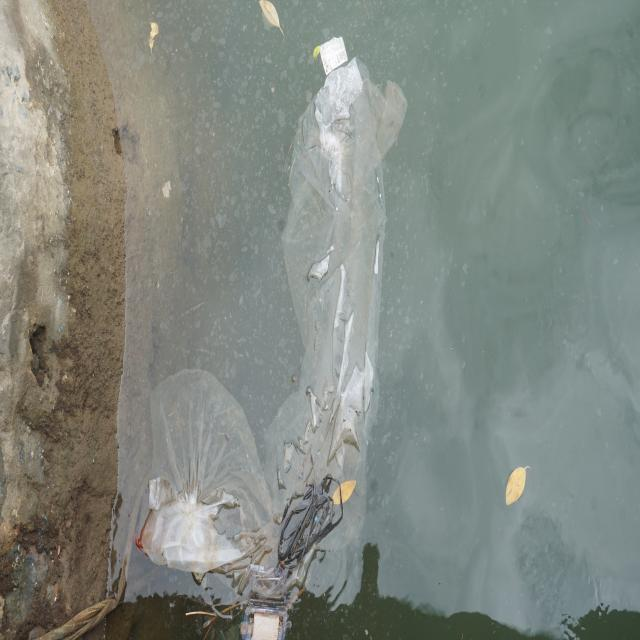Kantong Plastik: (144, 63, 408, 609)
